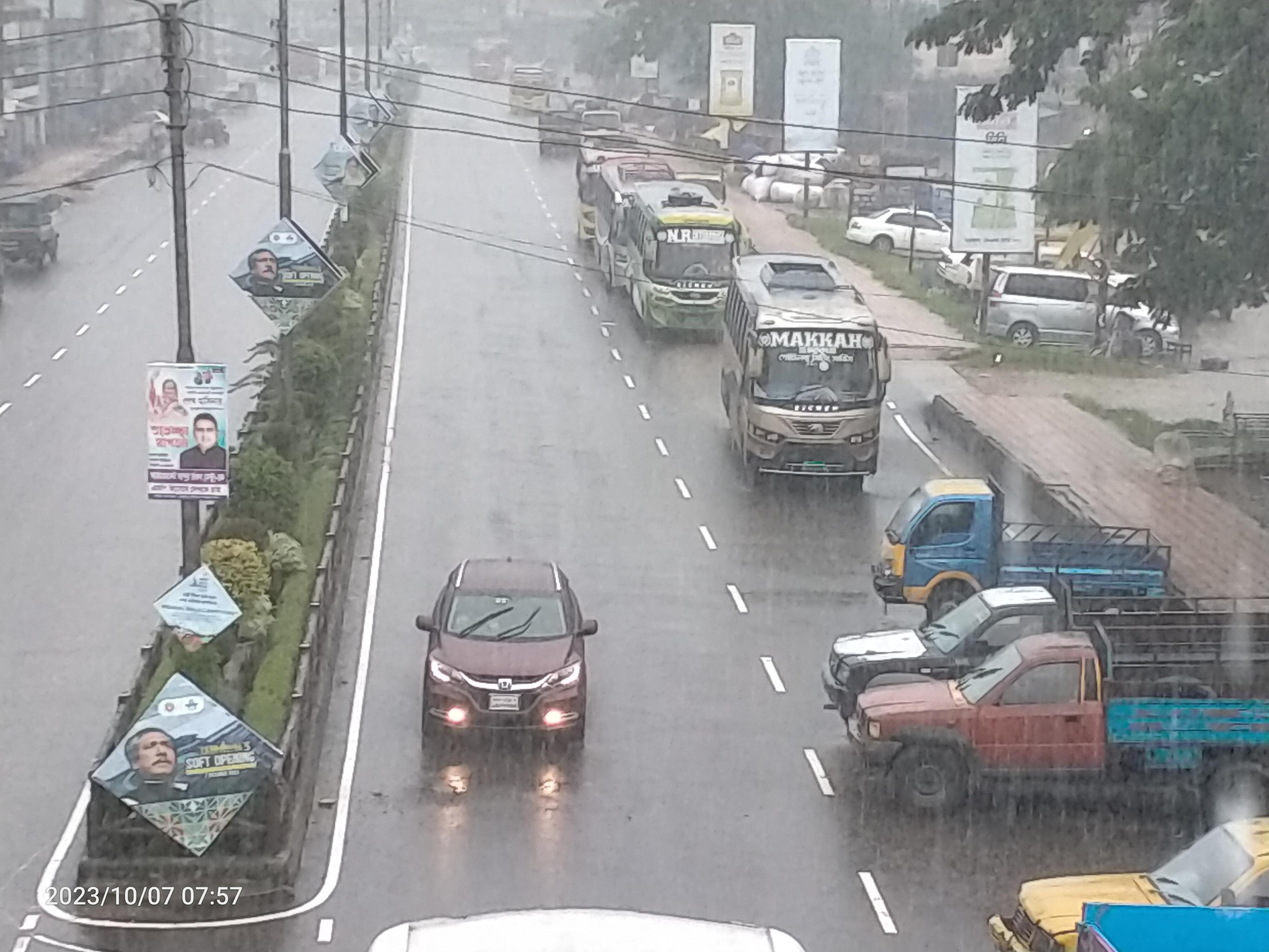Bus: (710, 243, 904, 503), (618, 178, 739, 356), (575, 143, 637, 285), (502, 63, 556, 122), (468, 27, 512, 90)
Car: (382, 533, 619, 820), (976, 251, 1206, 388), (838, 195, 959, 266), (0, 187, 68, 279)
Truck: (826, 625, 1269, 823), (840, 464, 1228, 604), (965, 802, 1269, 952)
